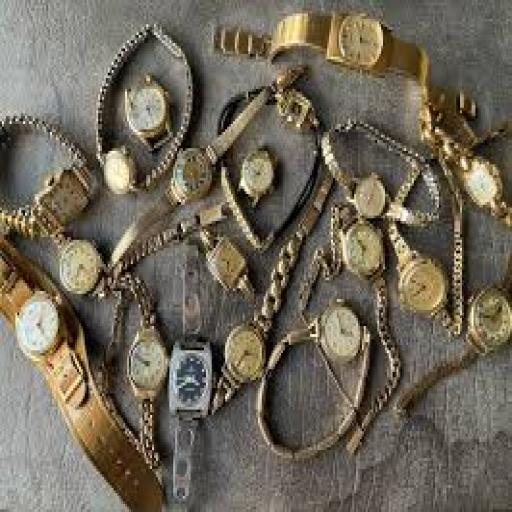KolSaati: (23, 149, 91, 234), (115, 310, 170, 408), (113, 70, 181, 146), (194, 225, 261, 302), (462, 268, 512, 366), (330, 4, 392, 78), (397, 244, 450, 326), (309, 303, 369, 372), (458, 140, 506, 224), (341, 155, 396, 228), (219, 320, 271, 392), (173, 332, 213, 424), (56, 228, 109, 297), (15, 290, 62, 362), (233, 139, 282, 206), (169, 144, 218, 204), (94, 144, 138, 204), (341, 221, 386, 276)
